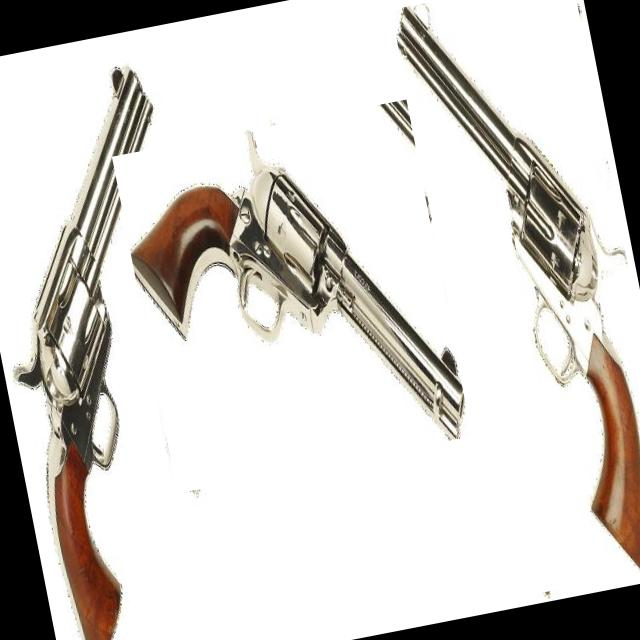Gun: (398, 8, 640, 566), (134, 130, 464, 440), (16, 67, 153, 640)
